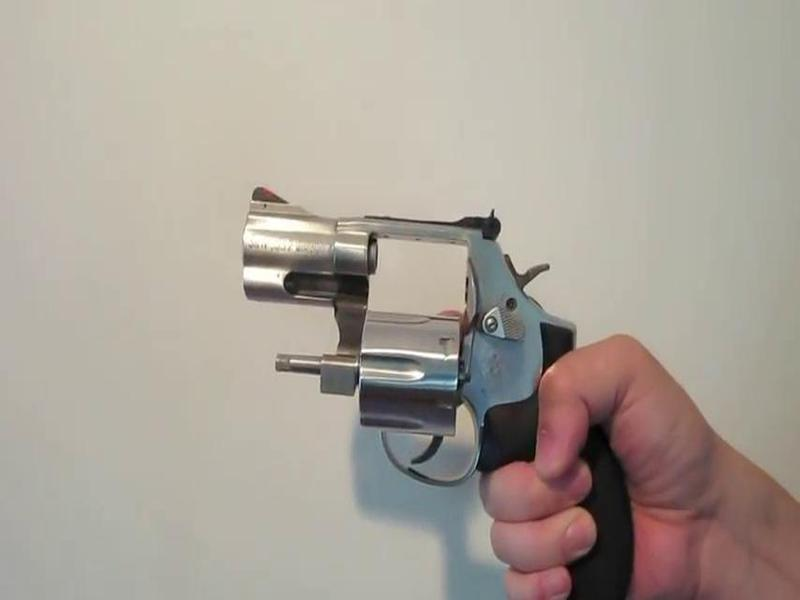Revolver: (230, 168, 664, 600)
